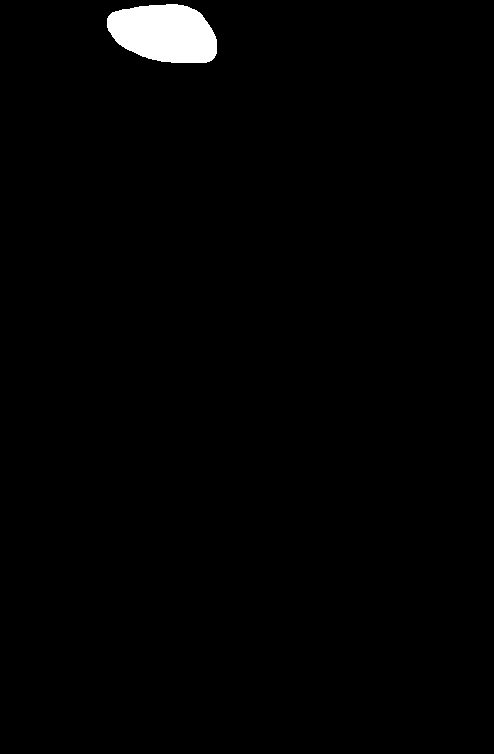veins_detect: (94, 2, 229, 72)
veins_seg: (108, 5, 217, 63)
